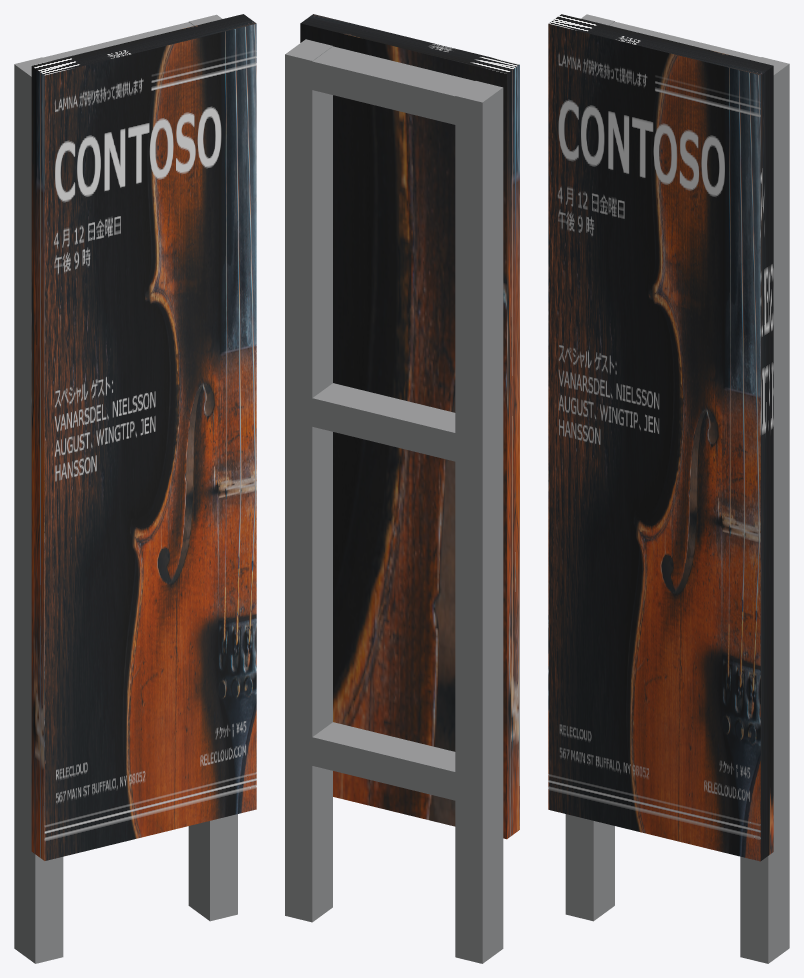
3 renders of one model, left to right at view 1: azimuth 30°, elevation 25°; view 2: azimuth 150°, elevation 25°; view 3: azimuth 330°, elevation 25°, orthographic. The views are drawn at different scales.
Parts seen in each view (by area): view 1: Cube.004, Cube.001, Cube.003, Cube.008; view 2: Cube.004, Cube.001, Cube.003, Cube.008, Cube.005, Cube.006; view 3: Cube.004, Cube.003, Cube.001, Cube.008.
Boxes of the visible parts, x1,y1,x2,y2 form: Cube.004: (31, 14, 256, 860); Cube.001: (14, 57, 63, 963); Cube.003: (188, 14, 237, 921); Cube.008: (43, 22, 193, 61); Cube.004: (300, 14, 519, 839); Cube.001: (455, 81, 503, 963); Cube.003: (285, 39, 332, 922); Cube.008: (288, 46, 477, 129); Cube.005: (289, 383, 478, 467); Cube.006: (289, 722, 478, 806); Cube.004: (548, 14, 773, 861); Cube.003: (740, 57, 789, 963); Cube.001: (565, 14, 614, 921); Cube.008: (610, 21, 760, 61).
Size of the model in its own units: 0.3078 by 1.25 by 0.0866.
3 materials, 1 textured.
